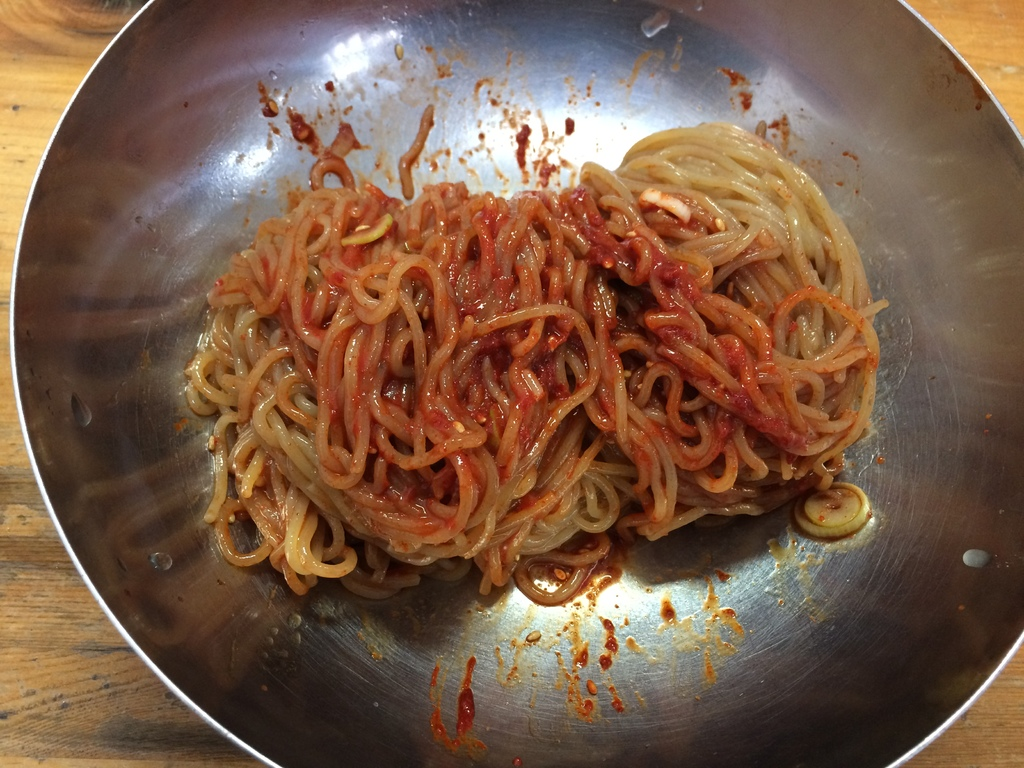pasta: (166, 122, 888, 591)
